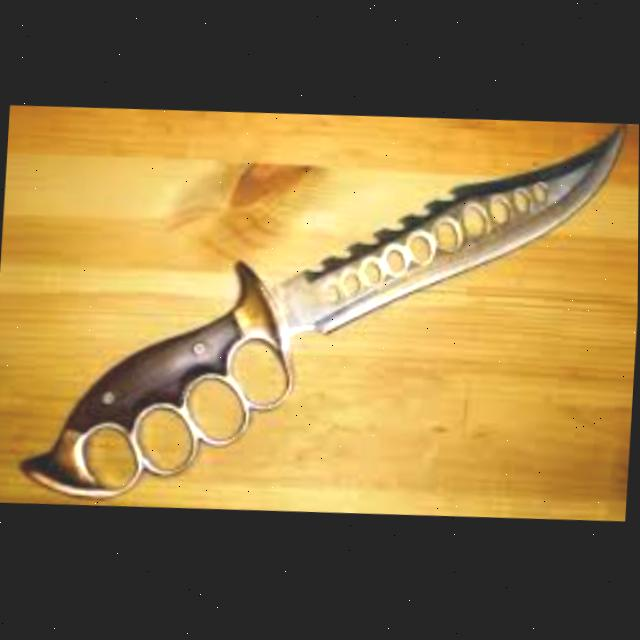Knife: (16, 95, 628, 526)
